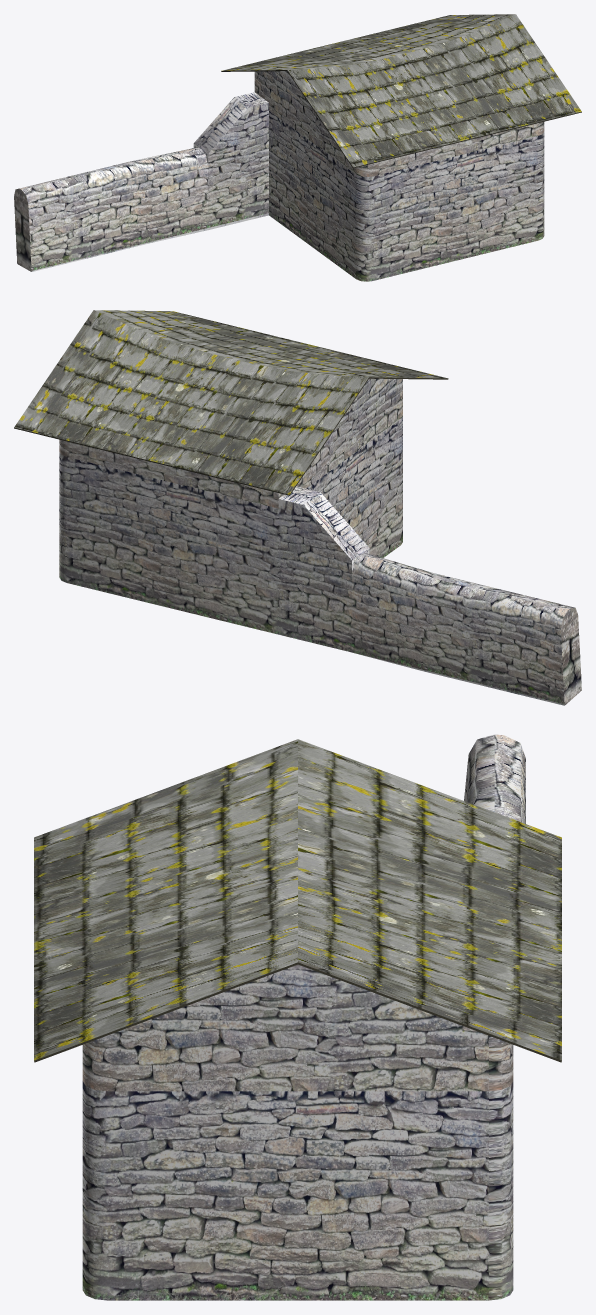
Rendered from Farmhouse.fbx.
3 renders of one model, top to bottom at view 1: azimuth 30°, elevation 25°; view 2: azimuth 150°, elevation 25°; view 3: azimuth 270°, elevation 25°, orthographic. The views are drawn at different scales.
Visible parts, largest first — view 1: Farmhouse; view 2: Farmhouse; view 3: Farmhouse.
Part boxes in pixels (x1,y1,x2,y2): Farmhouse: (14, 14, 581, 281); Farmhouse: (14, 310, 581, 705); Farmhouse: (34, 734, 561, 1300).
Size of the model in its own units: 955 by 370 by 491.
